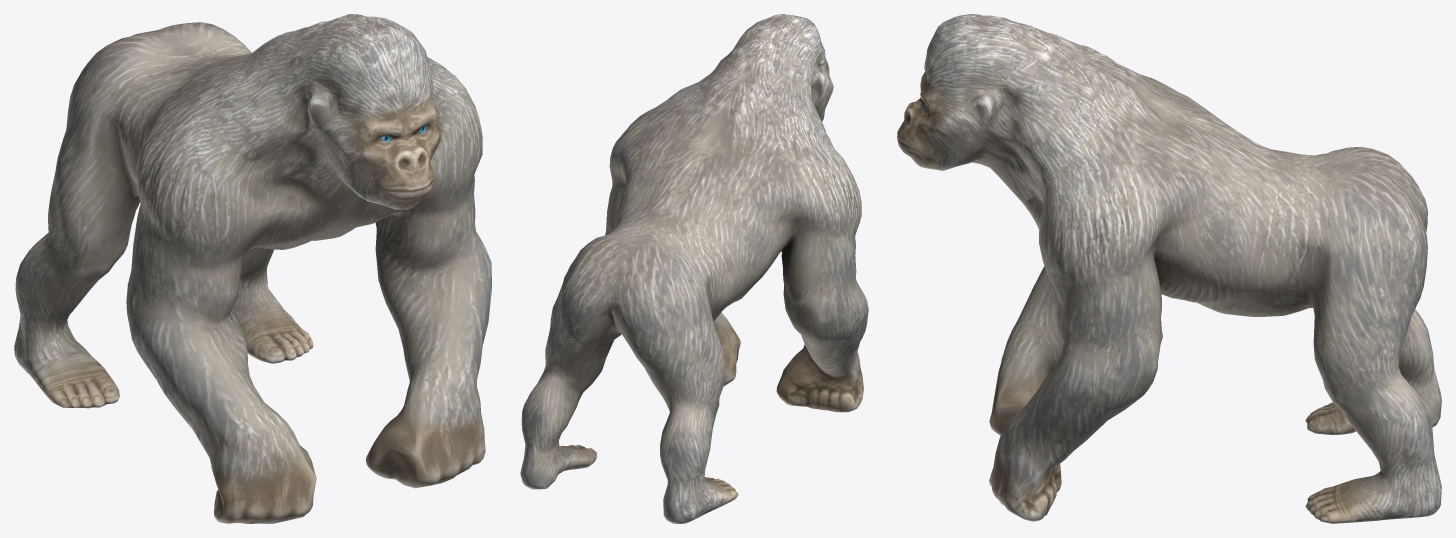
Rendered from MZ4250 - Giant Ape (Snow).glb.
3 renders of one model, left to right at view 1: azimuth 30°, elevation 25°; view 2: azimuth 150°, elevation 25°; view 3: azimuth 270°, elevation 25°, orthographic. The views are drawn at different scales.
Parts seen in each view (by area): view 1: body_low.001; view 2: body_low.001; view 3: body_low.001.
Part boxes in pixels (x1,y1,x2,y2): body_low.001: [14, 14, 491, 523]; body_low.001: [520, 14, 868, 523]; body_low.001: [897, 14, 1441, 523].
Bounding box in the file's own units: 4.59 × 6.26 × 6.91.
1 material, 1 textured.
